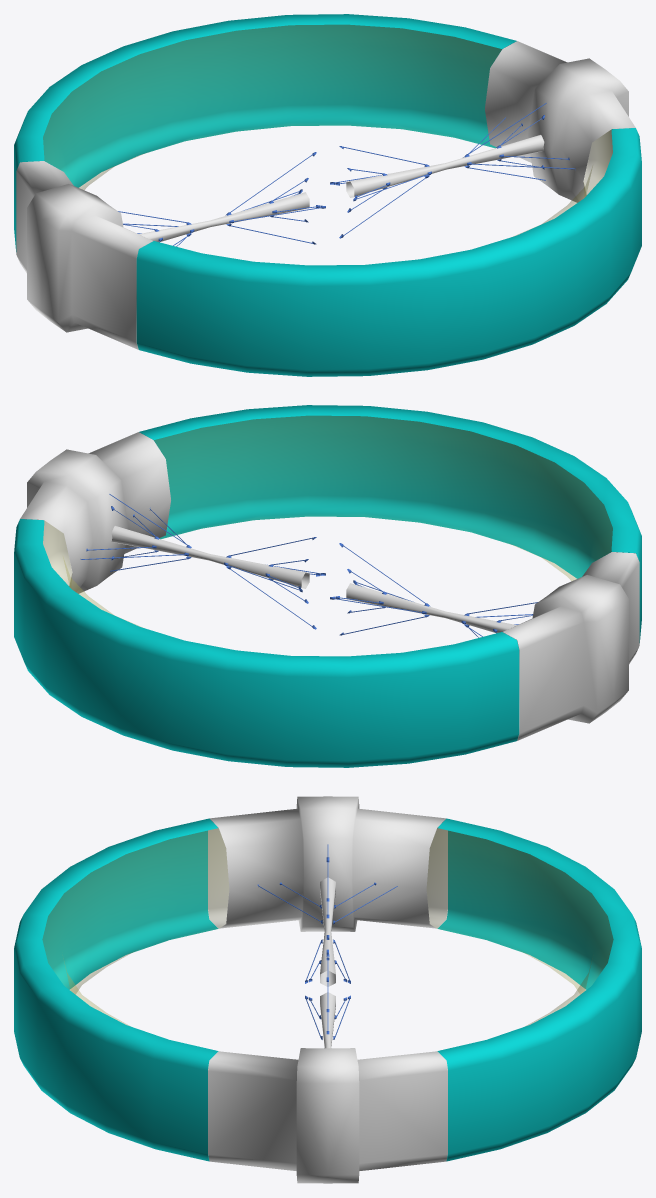
Rendered from station_ring_2-5k_coll.dae.
3 views of the same model, one above another, from view 1: azimuth 30°, elevation 25°; view 2: azimuth 150°, elevation 25°; view 3: azimuth 270°, elevation 25° (orthographic).
Visible parts, largest first — view 1: collision_ring_005, collision_ring_spoke_002, collision_spoke_001, collision_struts_003, collision_struts_002; view 2: collision_ring_005, collision_ring_spoke_002, collision_spoke_001, collision_struts_003, collision_struts_002; view 3: collision_ring_005, collision_ring_spoke_002, collision_spoke_001, collision_struts_002.
Boxes of the visible parts, box(x1,y1,x2,y2) form: collision_ring_005: box(14, 14, 641, 376); collision_ring_spoke_002: box(16, 41, 635, 349); collision_spoke_001: box(139, 135, 544, 242); collision_struts_003: box(330, 103, 575, 238); collision_struts_002: box(118, 152, 325, 246); collision_ring_005: box(14, 405, 641, 767); collision_ring_spoke_002: box(20, 432, 639, 740); collision_spoke_001: box(111, 526, 516, 633); collision_struts_003: box(80, 494, 325, 629); collision_struts_002: box(330, 543, 537, 637); collision_ring_005: box(14, 818, 641, 1161); collision_ring_spoke_002: box(208, 796, 447, 1183); collision_spoke_001: box(320, 877, 335, 1048); collision_struts_002: box(257, 844, 397, 983).
Bounding box in the file's own units: 6004 × 5714 × 1235.
